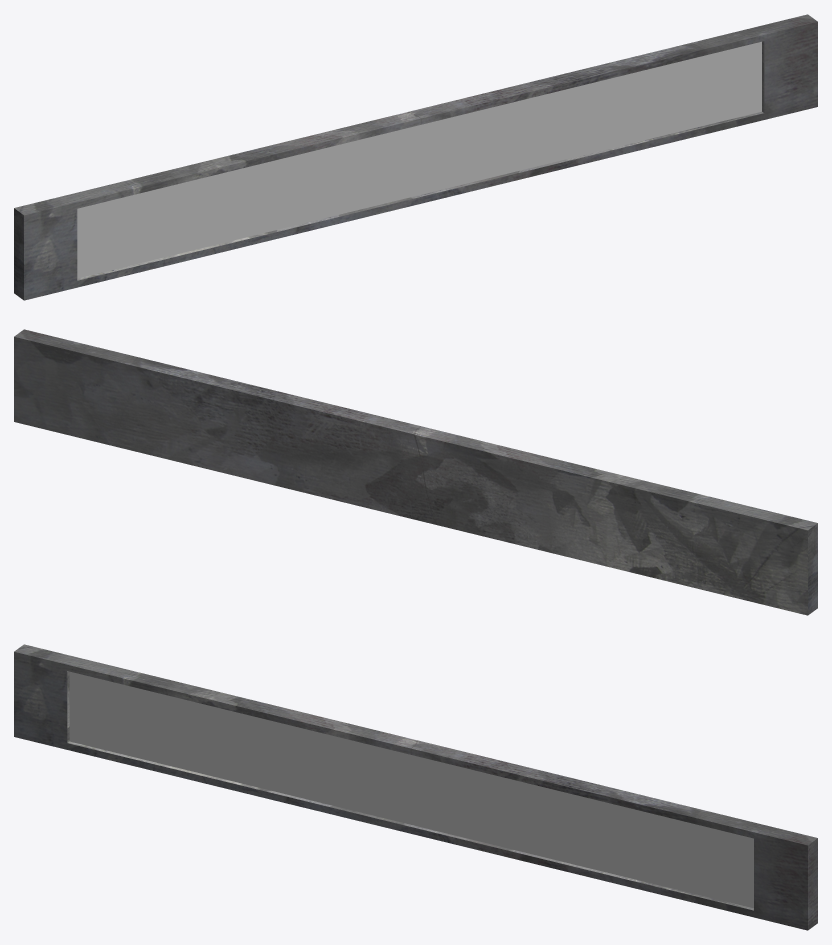
The model's file is AdvertisementBox_002.fbx.
3 views of the same model, one above another, from view 1: azimuth 30°, elevation 25°; view 2: azimuth 150°, elevation 25°; view 3: azimuth 330°, elevation 25° (orthographic).
Parts seen in each view (by area): view 1: polySurface2, AdvertisementBox_002; view 2: AdvertisementBox_002; view 3: polySurface2, AdvertisementBox_002.
Part boxes in pixels (<box>): polySurface2: <box>77,41,761,278</box>; AdvertisementBox_002: <box>14,14,817,300</box>; AdvertisementBox_002: <box>14,329,817,615</box>; polySurface2: <box>69,671,753,908</box>; AdvertisementBox_002: <box>14,644,817,930</box>.
Size of the model in its own units: 4539 by 466 by 100.
